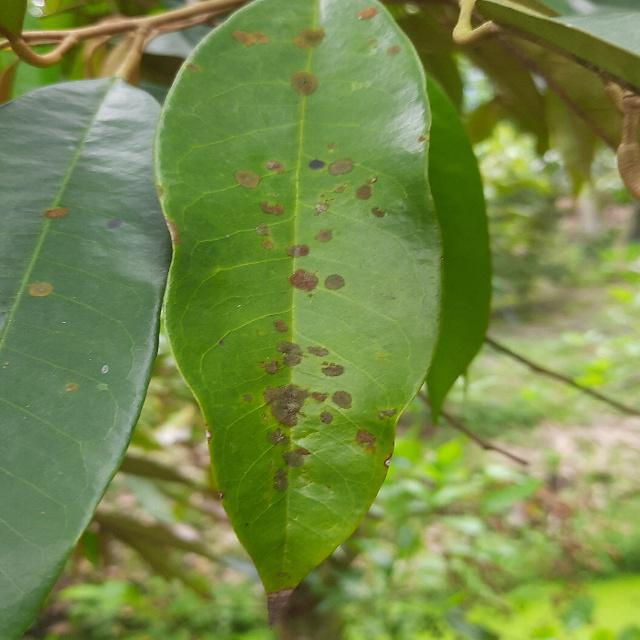Algal Leaf Spot: (151, 0, 454, 639)
